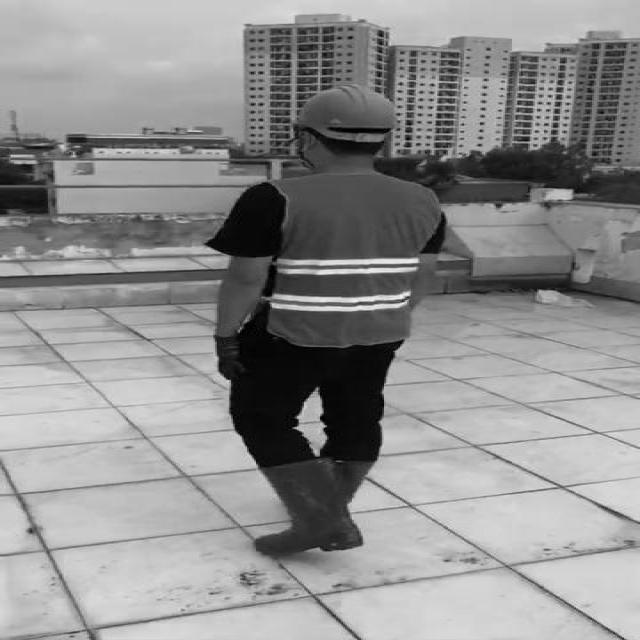boots: (254, 459, 368, 561)
hand_glove: (215, 334, 247, 384)
head_helmet: (290, 83, 410, 133)
person: (203, 77, 458, 565)
vest: (256, 171, 437, 348)
